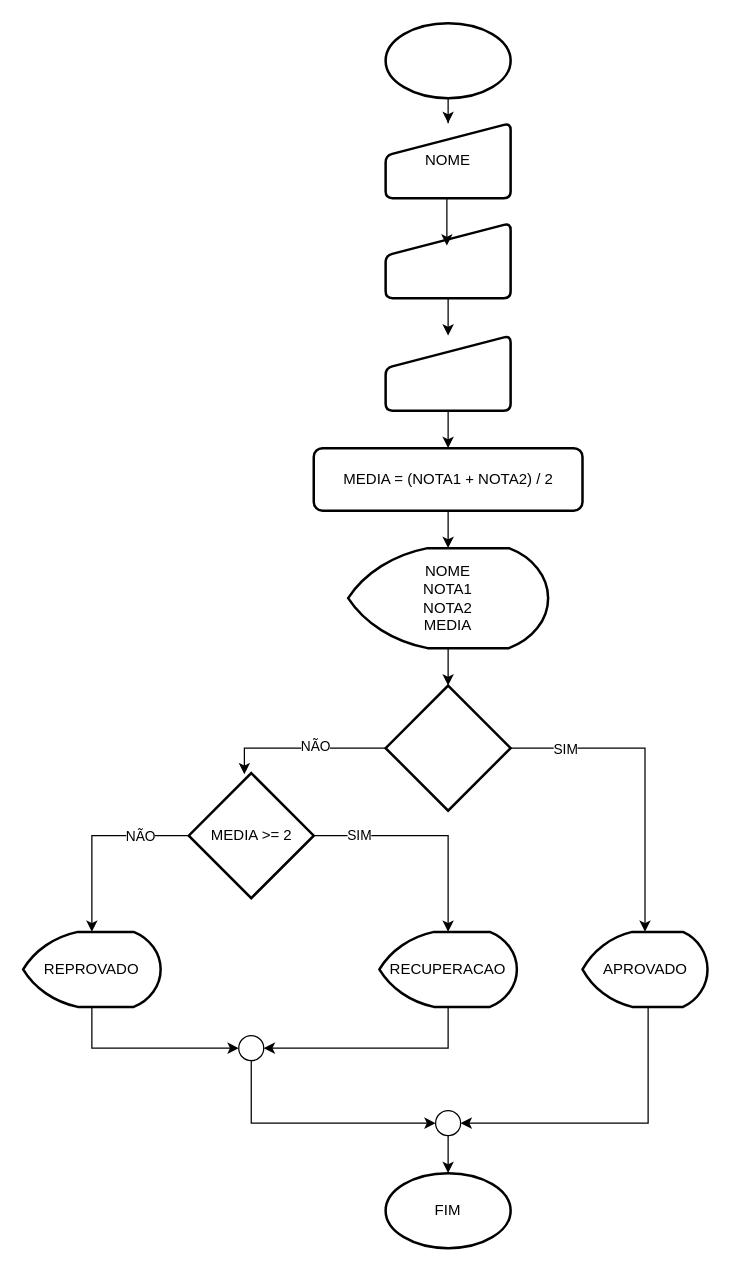
Image size: 730x1270. Some labels were removed from this diagram. Each missing label, with the centre of its shape:
"INICIO" belongs at point 447,60.
"MEDIA >= 7" belongs at point 447,747.
"NOTA1" belongs at point 447,260.
"NOTA2" belongs at point 447,372.
